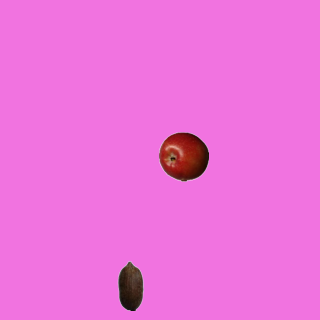Apple Braeburn: (158, 131, 208, 181)
Nut Pecan: (105, 260, 155, 310)
